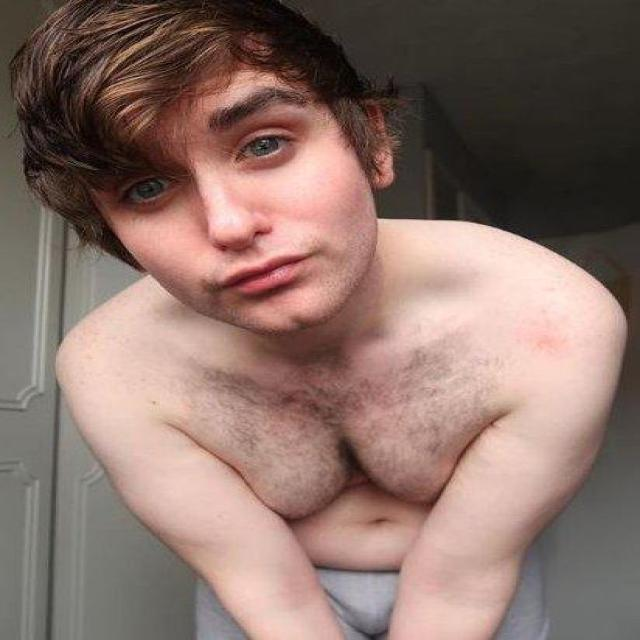human: (6, 1, 628, 640)
